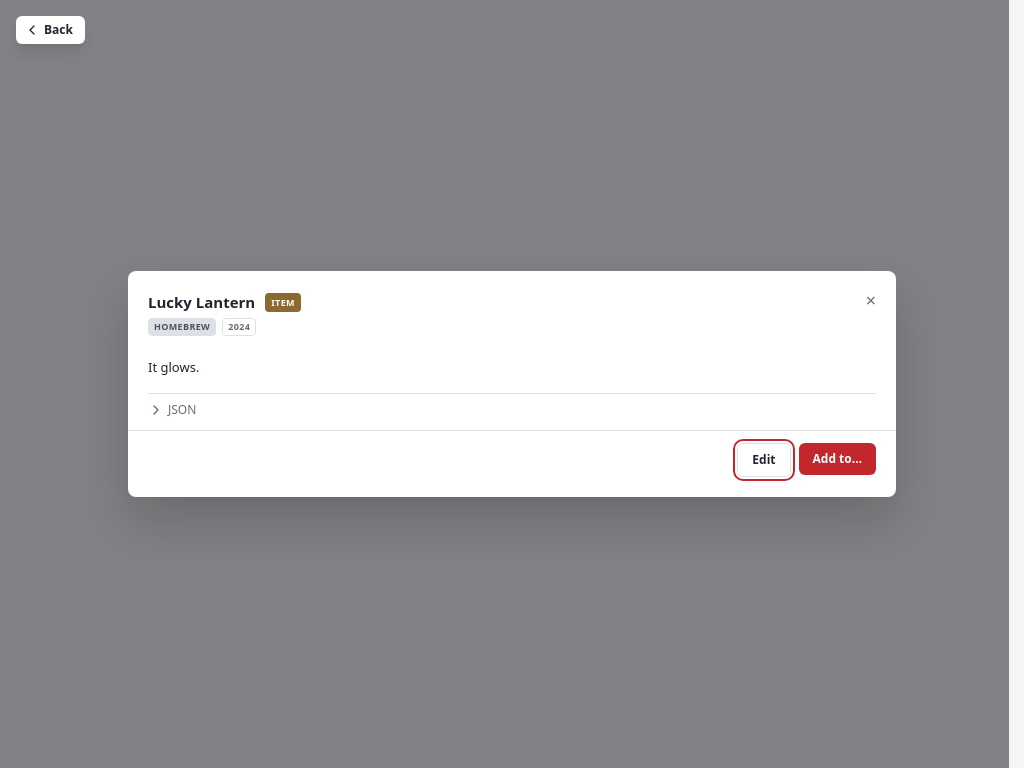
Test: EditHomebrewButton › saves a rename in place, shows it in the detail, and puts focus back on Edit
Click the button "Edit" at (764, 460), box [737, 443, 790, 477]
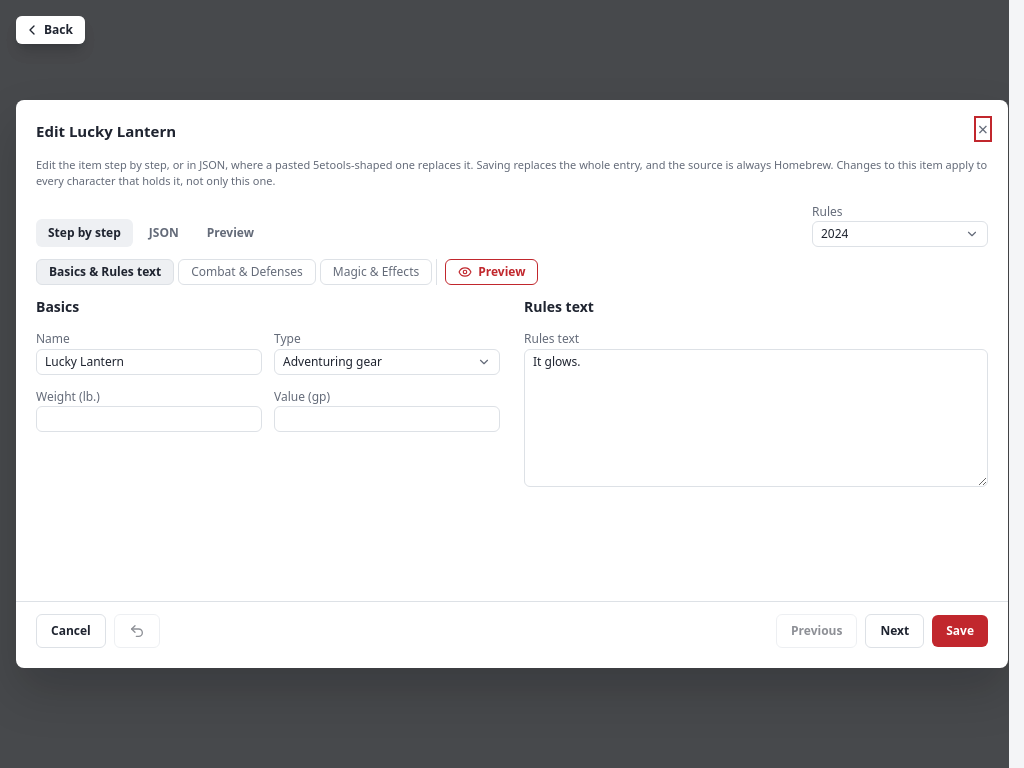
Check: the 1st dialog is shown
Replace the text in the field labelled "Name" with "Cursed Lantern" at (149, 362), box [36, 348, 262, 374]
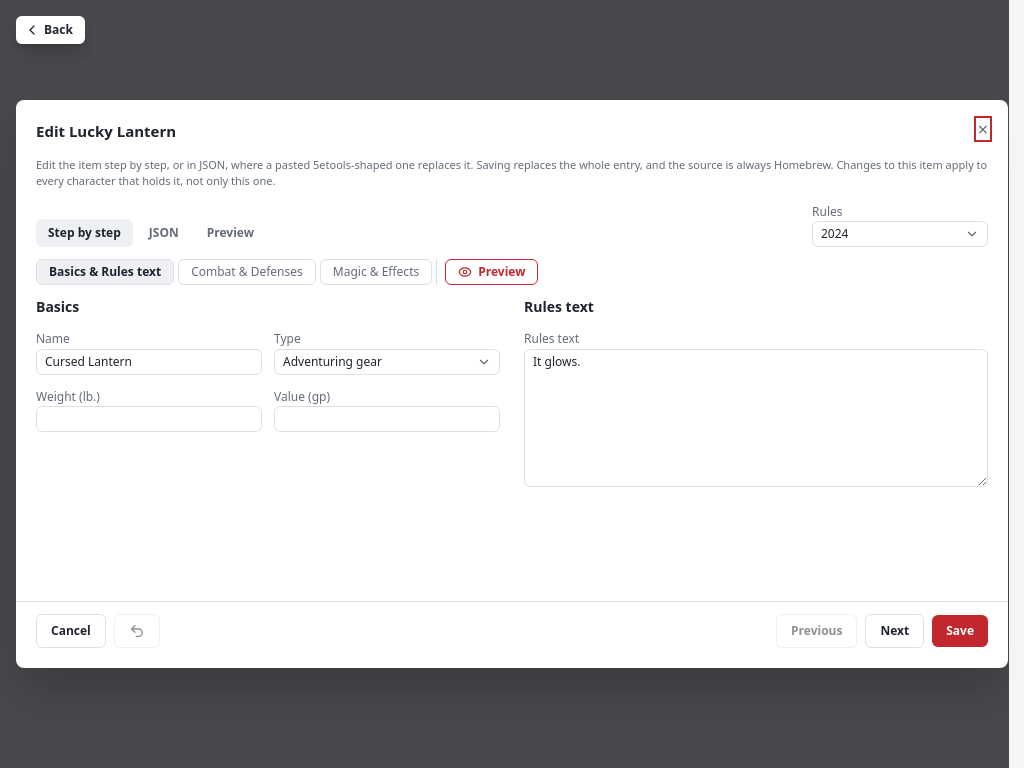
Click the button "Save" at (960, 631), box [932, 615, 988, 647]
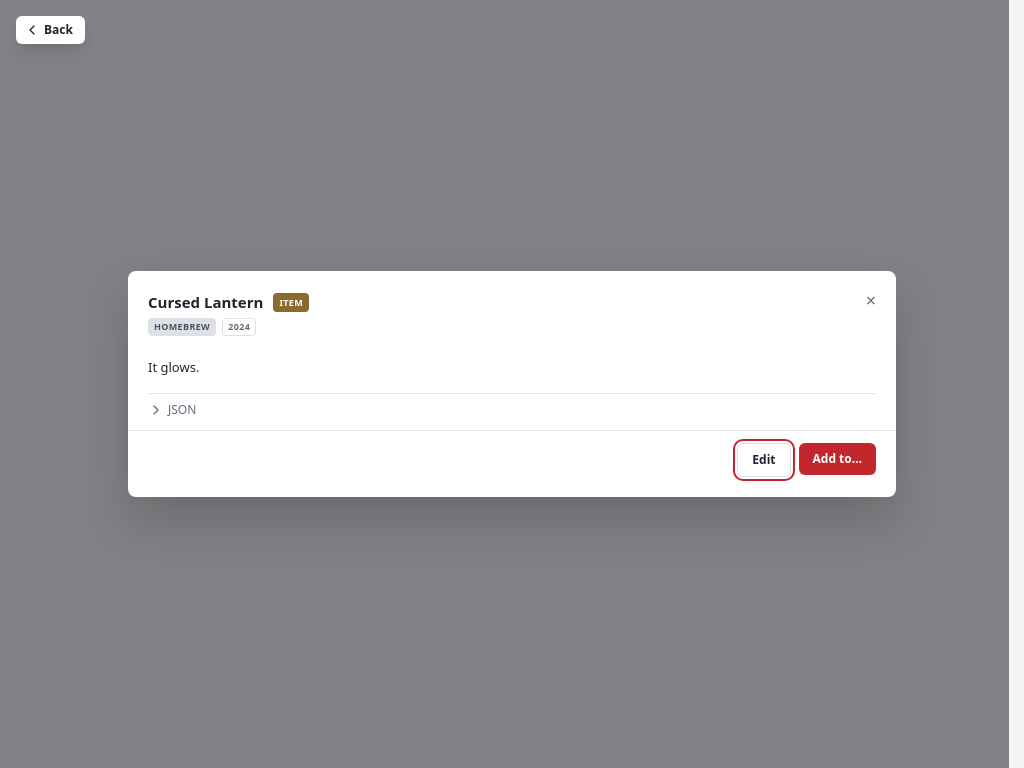
Check: the heading "Cursed Lantern" is shown, box [148, 291, 263, 314]
